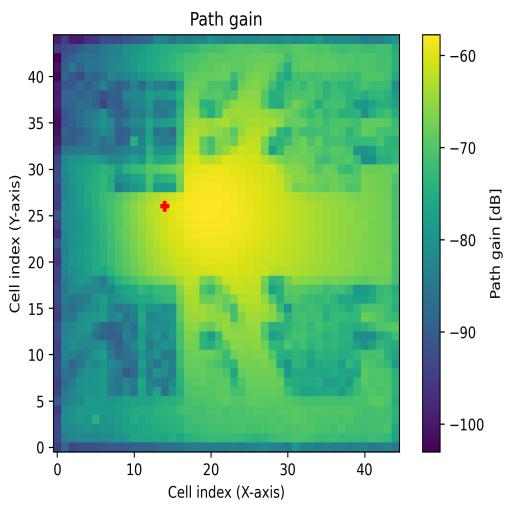Concrete: (284, 74, 361, 194)
Glass: (116, 80, 184, 192)
Metal: (284, 286, 360, 396)
Wood: (108, 285, 176, 397)
